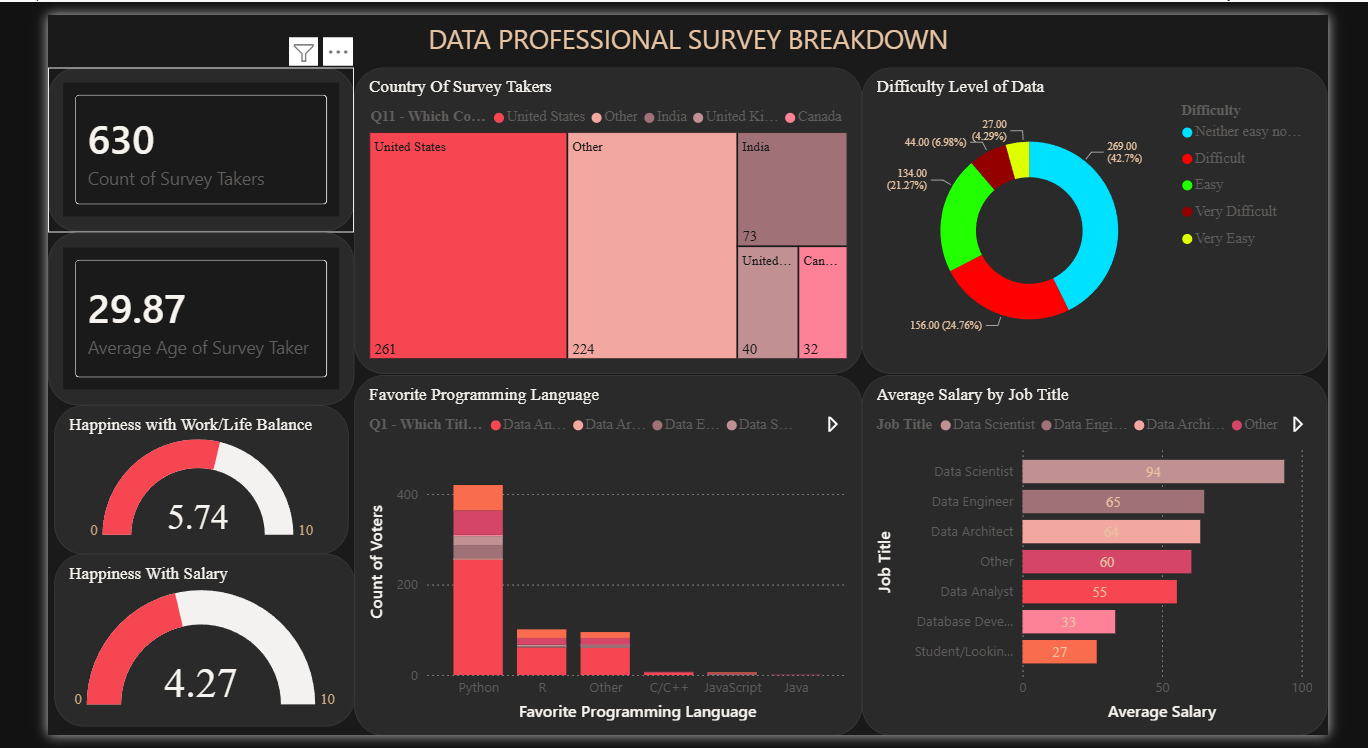

The dashboard page shown, as its layout file describes it:
{"tool":"powerbi","page":{"name":"Page 1","canvas":[1280,720],"ordinal":0},"visuals":[{"type":"textbox","box":[0,0,1280.3,53.5],"z":0},{"type":"cardVisual","fields":{"Data":["CountNonNull(Data Professional Survey.Unique ID)"]},"box":[0,53.1,306.4,164.1],"z":1000},{"type":"cardVisual","fields":{"Data":["Avg(Data Professional Survey.Q10 - Current Age)"]},"box":[0,217.2,306.4,172.5],"z":2000},{"type":"barChart","title":"Average Salary by Job Title","fields":{"Category":["Data Professional Survey.Q1 - Which Title Best Fits your Current Role?.1"],"Y":["Avg(Data Professional Survey.Average Salary)"],"Series":["Data Professional Survey.Q1 - Which Title Best Fits your Current Role?.1"]},"box":[814.3,359.5,465.7,360.7],"z":3000},{"type":"columnChart","title":"Favorite Programming Language","fields":{"Category":["Data Professional Survey.Q5 - Favorite Programming Language.1"],"Y":["CountNonNull(Data Professional Survey.Unique ID)"],"Series":["Data Professional Survey.Q1 - Which Title Best Fits your Current Role?.1"]},"box":[306.4,359.5,507.9,360.7],"z":4000},{"type":"treemap","title":"Country Of Survey Takers ","fields":{"Group":["Data Professional Survey.Q11 - Which Country do you live in?.1"],"Values":["CountNonNull(Data Professional Survey.Q11 - Which Country do you live in?.1)"]},"box":[306.4,53.1,507.9,306.4],"z":5000},{"type":"gauge","title":"Happiness with Work/Life Balance","fields":{"Y":["Avg(Data Professional Survey.Q6 - How Happy are you in your Current Position with the following? (Work/Life Balance))"],"MinValue":["Min(Data Professional Survey.Q6 - How Happy are you in your Current Position with the following? (Work/Life Balance))1"],"MaxValue":["Max(Data Professional Survey.Q6 - How Happy are you in your Current Position with the following? (Work/Life Balance))2"]},"box":[6,389.7,294.4,149.6],"z":6000},{"type":"gauge","title":"Happiness With Salary ","fields":{"Y":["Avg(Data Professional Survey.Q6 - How Happy are you in your Current Position with the following? (Salary))"],"MinValue":["Min(Data Professional Survey.Q6 - How Happy are you in your Current Position with the following? (Salary))"],"MaxValue":["Max(Data Professional Survey.Q6 - How Happy are you in your Current Position with the following? (Salary))"]},"box":[6,539.3,300.4,172.5],"z":7000},{"type":"donutChart","title":"Difficulty Level of Data","fields":{"Category":["Data Professional Survey.Q7 - How difficult was it for you to break into Data?"],"Y":["CountNonNull(Data Professional Survey.Q7 - How difficult was it for you to break into Data?)"]},"box":[814.3,53.1,465.7,306.4],"z":8000}]}

Visuals, with their boxes in screenshot pixels (x1, y1, x2, y2), scaled from the page's 1280x720 canvas onto the 1368x748 screenshot:
textbox: [left=0, top=0, right=1367, bottom=56]
cardVisual - CountNonNull(Data Professional Survey.Unique ID): [left=0, top=55, right=327, bottom=226]
cardVisual - Avg(Data Professional Survey.Q10 - Current Age): [left=0, top=226, right=327, bottom=405]
"Average Salary by Job Title" barChart: [left=870, top=373, right=1367, bottom=747]
"Favorite Programming Language" columnChart: [left=327, top=373, right=870, bottom=747]
"Country Of Survey Takers " treemap: [left=327, top=55, right=870, bottom=373]
"Happiness with Work/Life Balance" gauge: [left=6, top=405, right=321, bottom=560]
"Happiness With Salary " gauge: [left=6, top=560, right=327, bottom=739]
"Difficulty Level of Data" donutChart: [left=870, top=55, right=1367, bottom=373]
